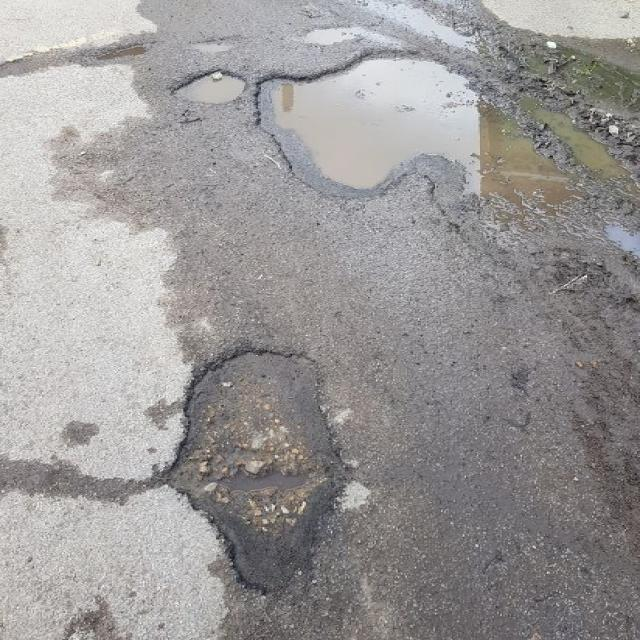Pothole: (243, 51, 613, 246), (144, 347, 345, 598), (161, 65, 245, 111)
